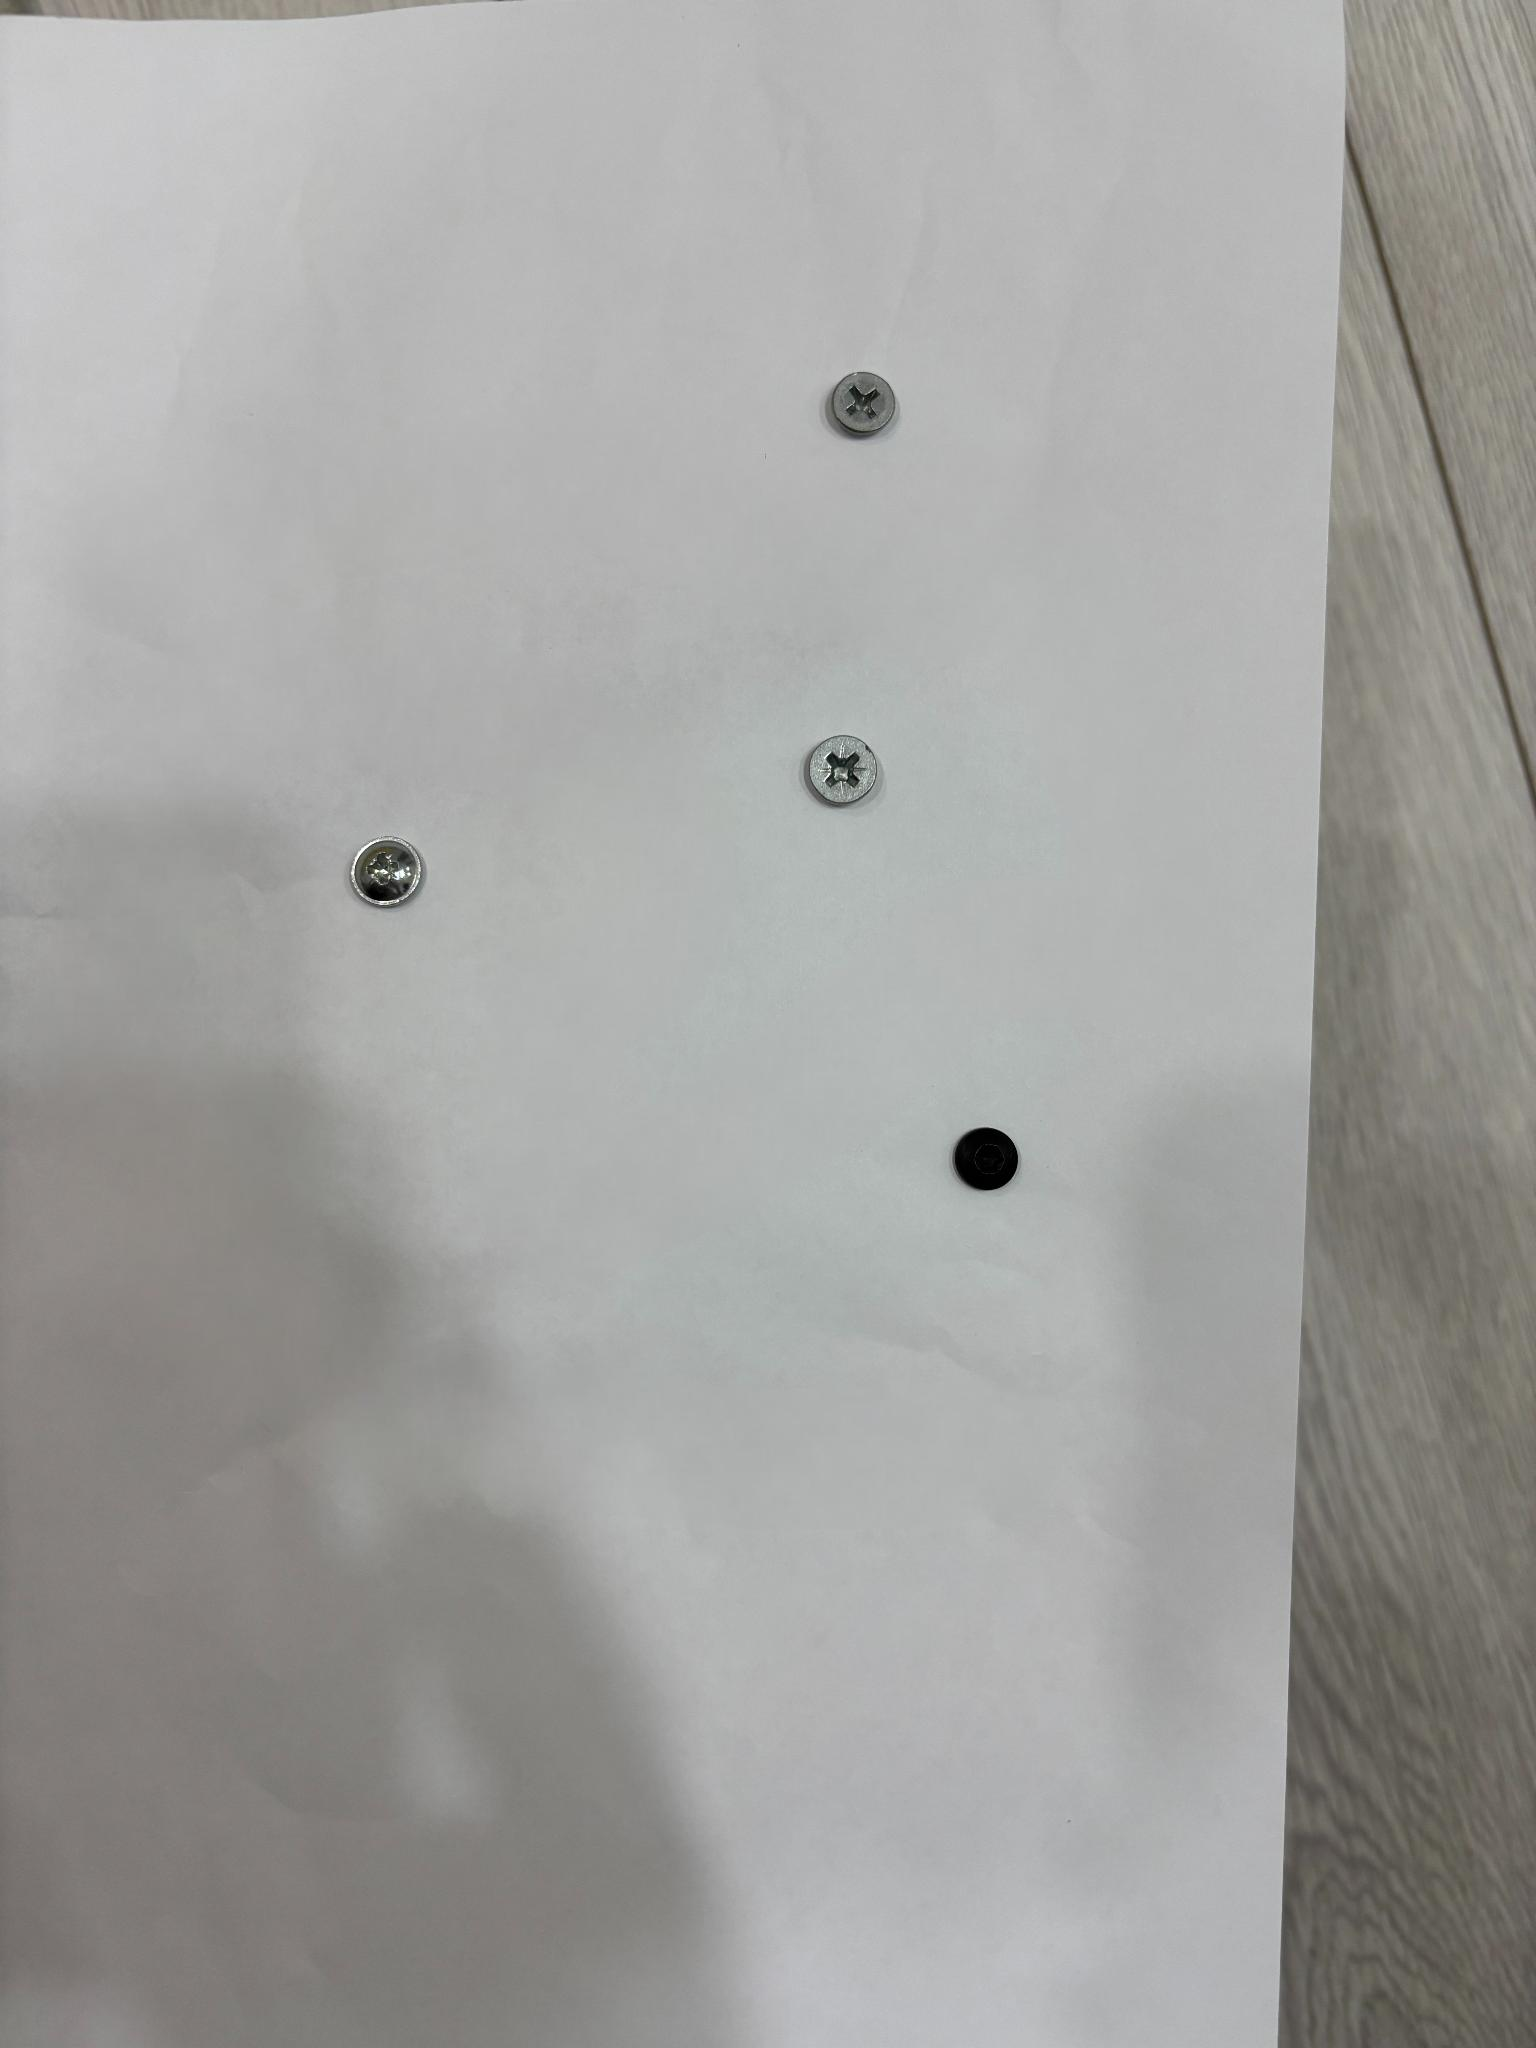H: (954, 1127, 1018, 1190)
PH: (829, 371, 897, 435)
PZ: (350, 837, 424, 908), (807, 735, 879, 805)
